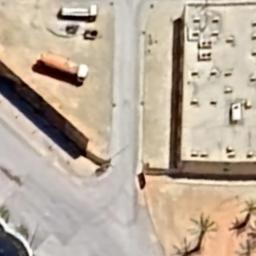others: (32, 49, 92, 87)
